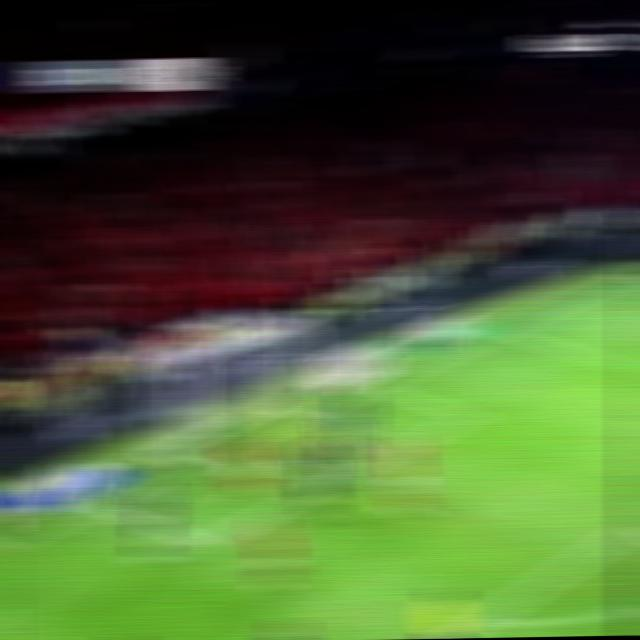bigarea_top_outter: (482, 322, 518, 341)
bottom_arc_area_intersection: (456, 600, 503, 637)
corner: (616, 268, 640, 280)
smallarea_bottom_inner: (182, 530, 223, 559)
smallarea_bottom_outter: (80, 495, 116, 516)
smallarea_top_inner: (448, 406, 483, 426)
smallarea_top_outter: (357, 378, 389, 396)
